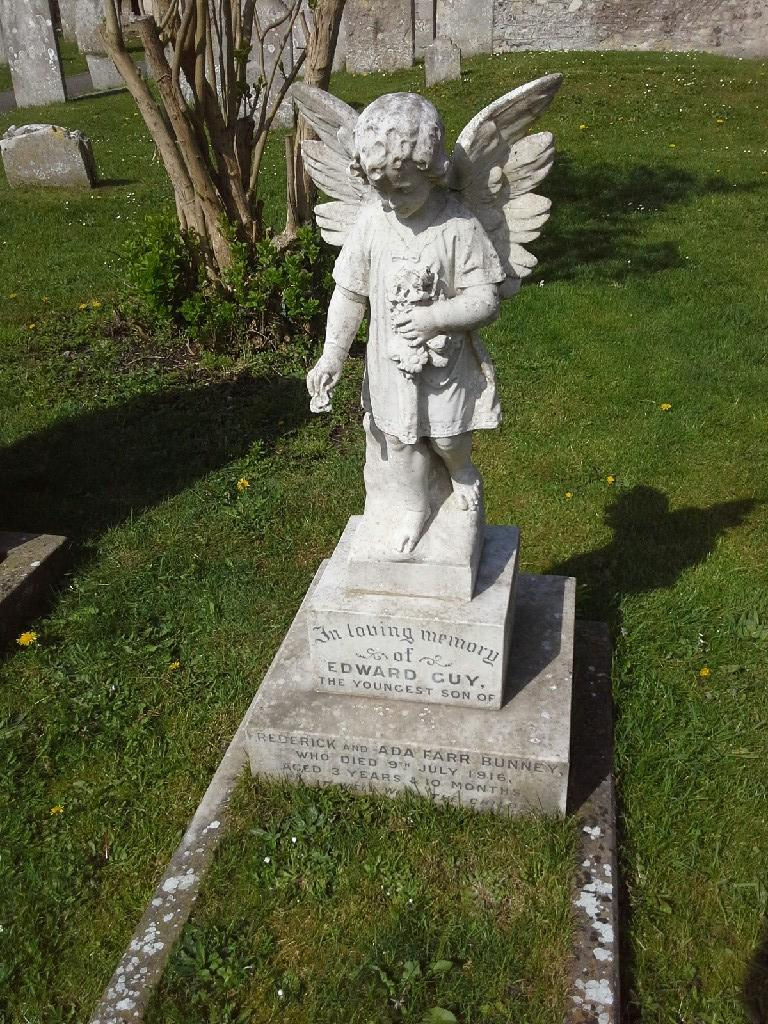statue: (236, 68, 571, 815)
